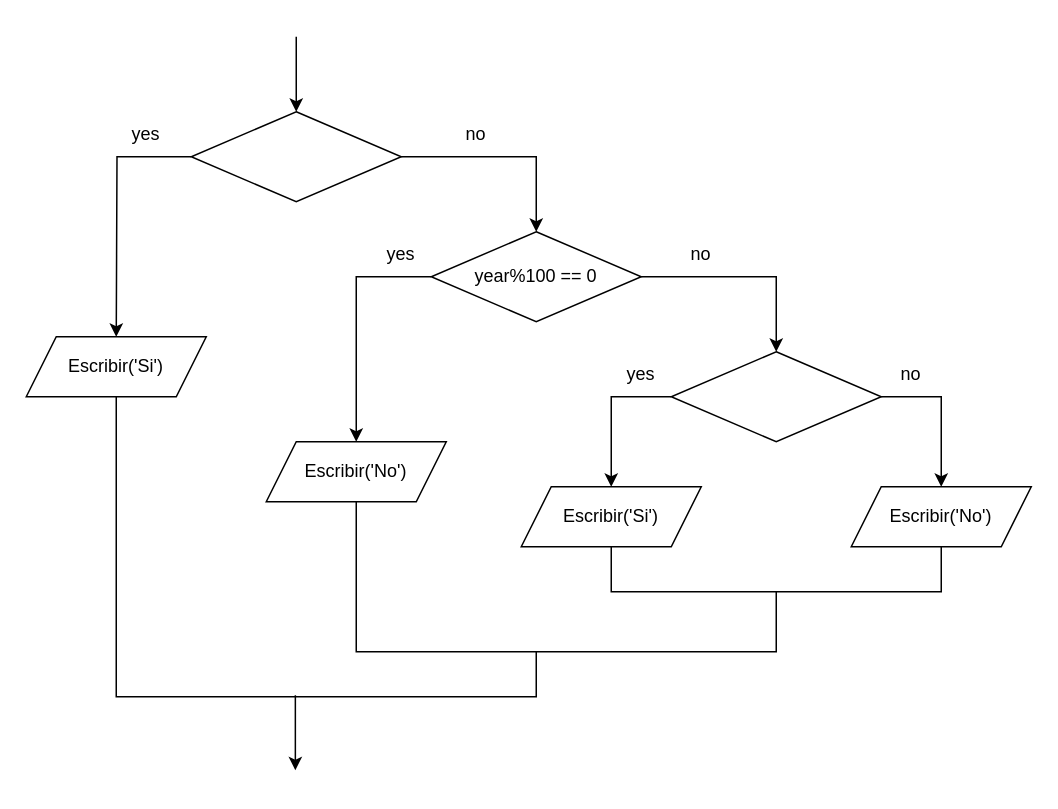
This 1058x809 diagram has some shape labels left out. Each missing label, with the centre of its shape:
year%4 == 0: [775,396]
year%400 == 0: [295,156]
